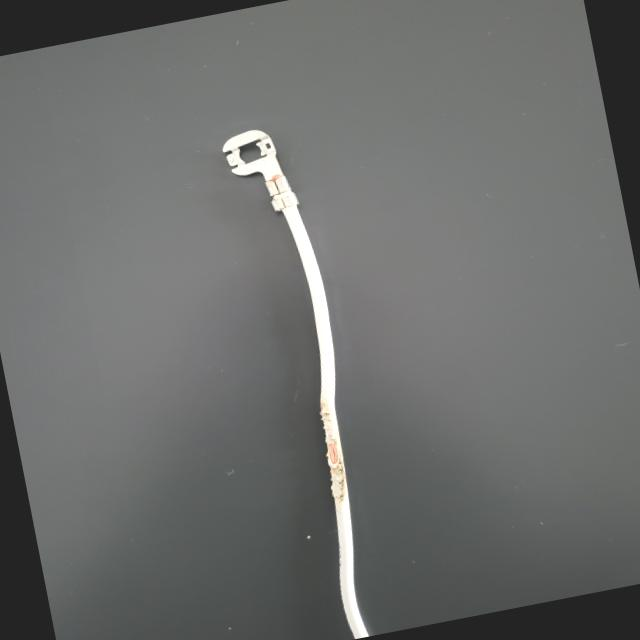defect: (266, 376, 404, 542)
